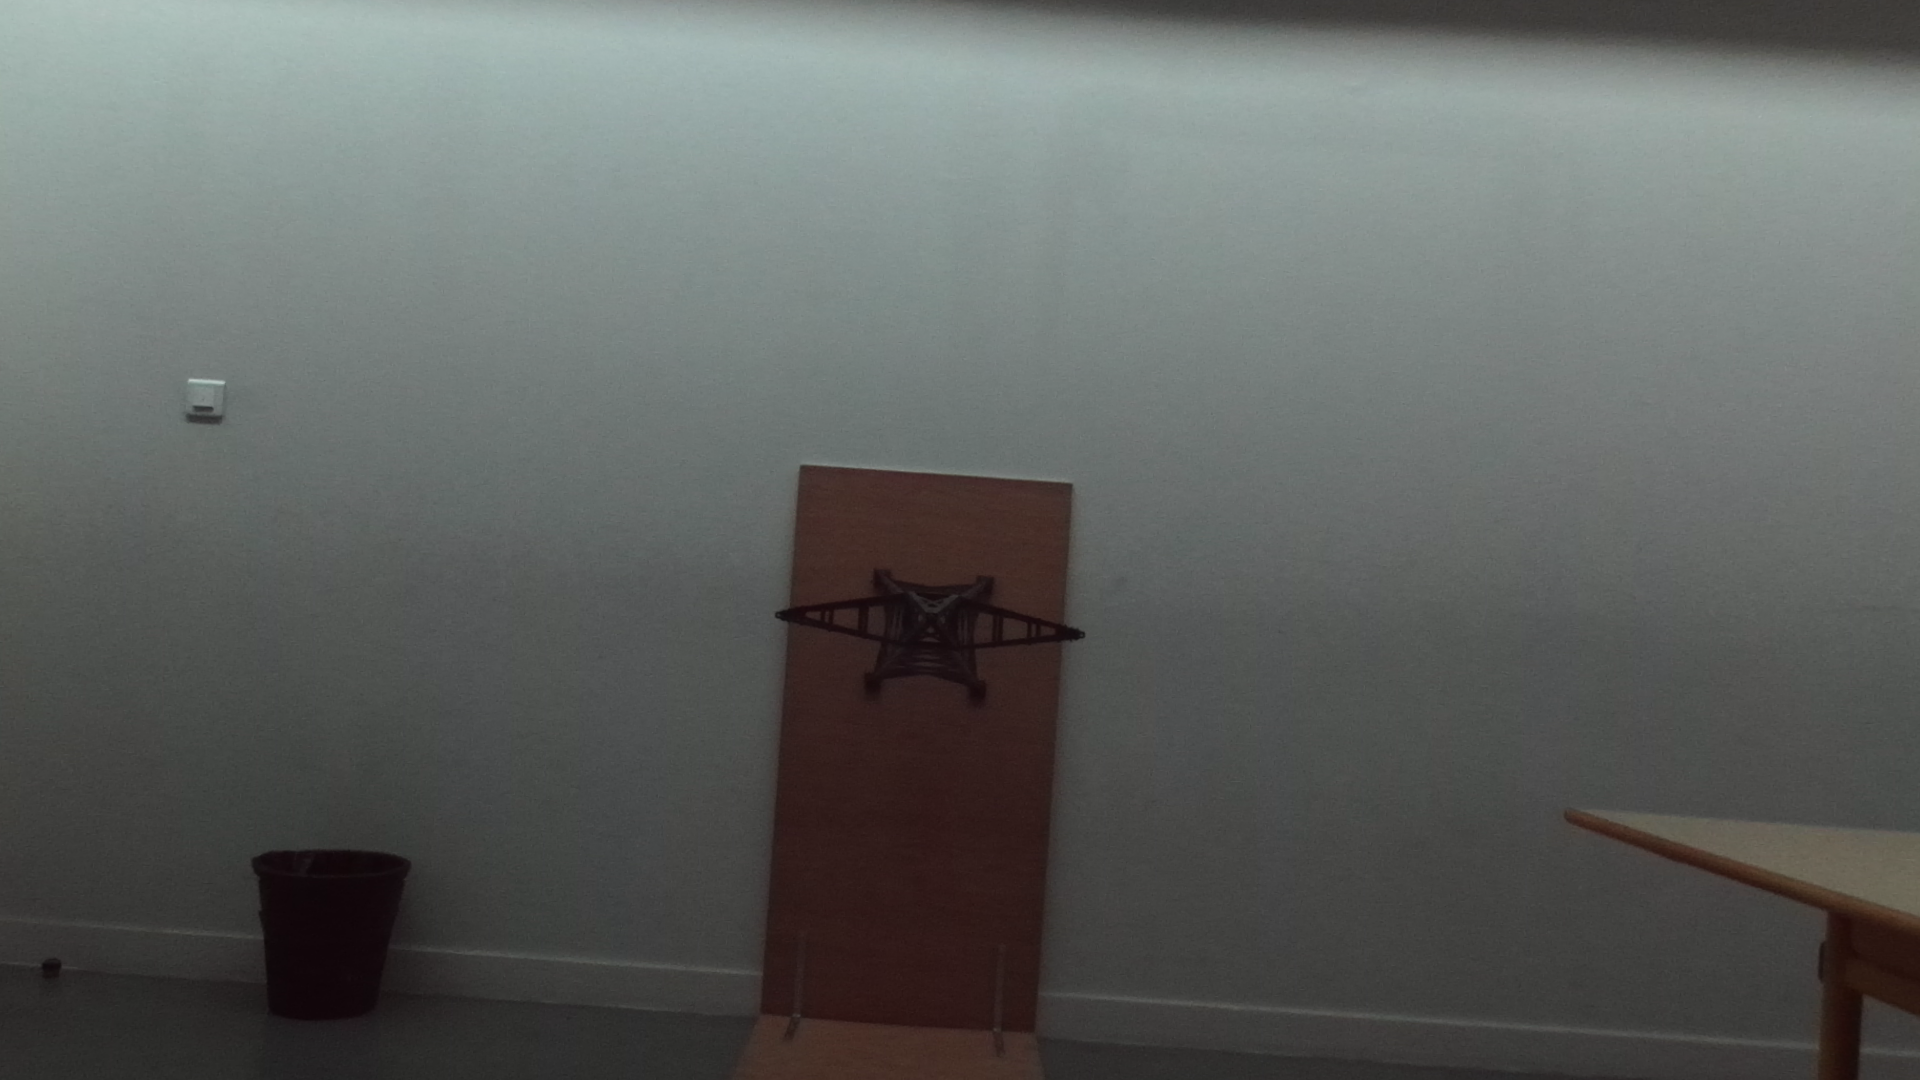pylon_phy: (771, 593, 1089, 651)
